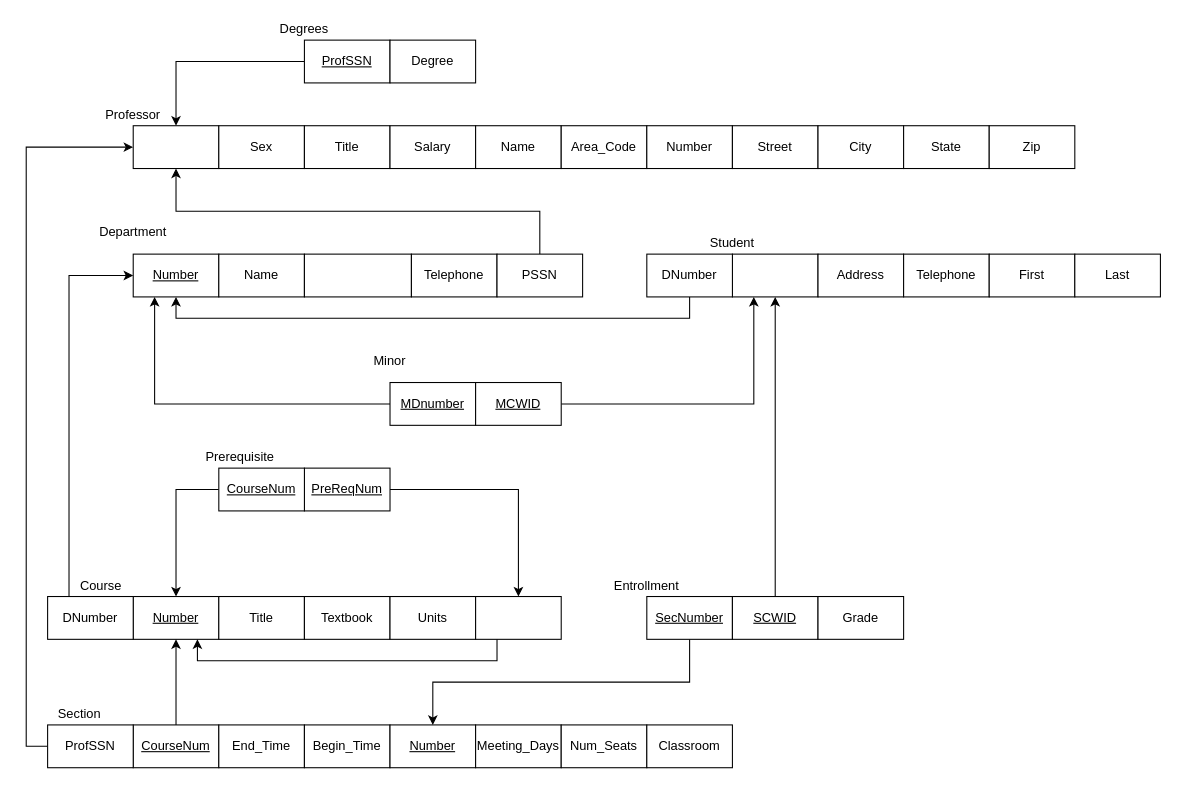
The diagram is 1179 pixels wide and 786 high, and some of its shapes have lost their labels. Here are the shapes that lost their labels. From the top down, the centre of each, then its label:
At point 175,147: "SSN".
At point 357,275: "Office_Location".
At point 774,275: "CWID".
At point 518,617: "Number2".
